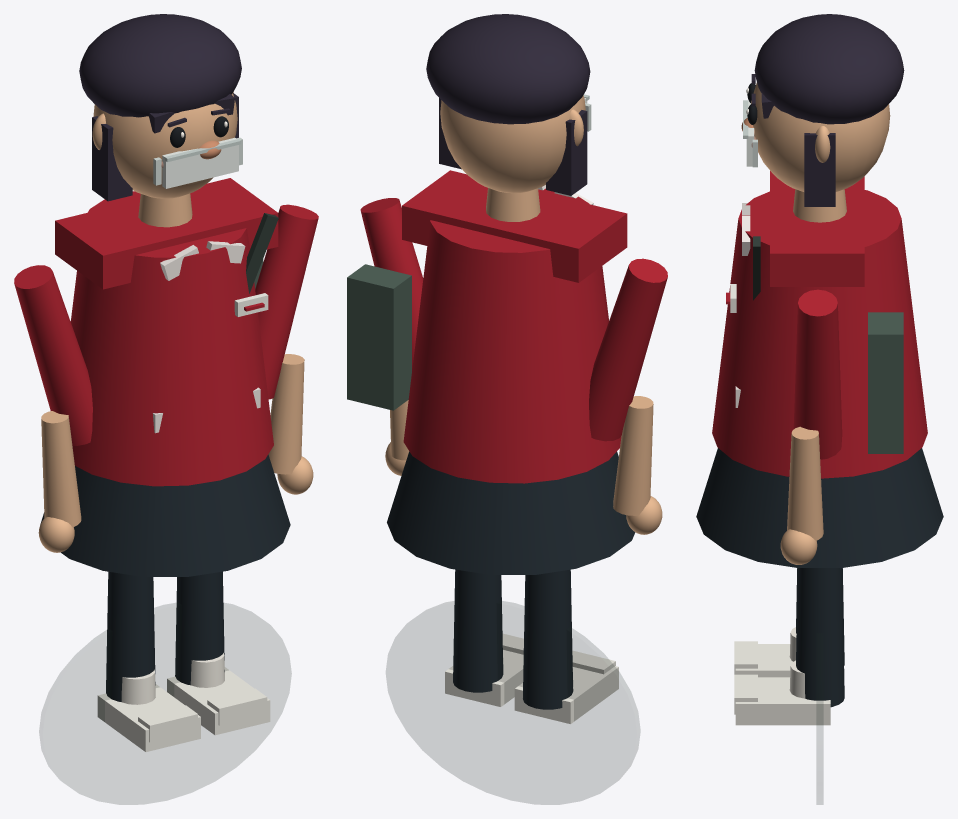
Rendered from player_female_red_mask.glb.
3 renders of one model, left to right at view 1: azimuth 30°, elevation 25°; view 2: azimuth 150°, elevation 25°; view 3: azimuth 270°, elevation 25°, orthographic. The views are drawn at different scales.
Visible parts, largest first — view 1: torso, contact_shadow, skirt, hair_cap, shoulder_line, upper_arm_-0.235, upper_arm_0.235, head, leg_-0.075, leg_0.075, forearm_-0.235, forearm_0.235 (+13 smaller); view 2: torso, contact_shadow, skirt, hair_cap, shoulder_line, shoulder_bag, upper_arm_-0.235, head, leg_-0.075, leg_0.075, forearm_-0.235, upper_arm_0.235 (+7 smaller); view 3: torso, skirt, hair_cap, shoulder_line, upper_arm_0.235, head, leg_0.075, shoulder_bag, forearm_0.235, shoe_0.075, side_hair_0.115, shoe_-0.075 (+7 smaller).
Part boxes in pixels (x1,y1,x2,y2): torso: [70, 191, 273, 486]; contact_shadow: [39, 603, 291, 804]; skirt: [40, 454, 290, 576]; hair_cap: [79, 14, 241, 117]; shoulder_line: [55, 178, 278, 289]; upper_arm_-0.235: [14, 265, 92, 445]; upper_arm_0.235: [255, 204, 318, 399]; head: [93, 93, 237, 198]; leg_-0.075: [106, 571, 155, 701]; leg_0.075: [175, 571, 224, 685]; forearm_-0.235: [41, 411, 81, 527]; forearm_0.235: [268, 354, 304, 474]; torso: [403, 188, 621, 483]; contact_shadow: [386, 601, 639, 804]; skirt: [387, 451, 635, 574]; hair_cap: [426, 14, 590, 124]; shoulder_line: [402, 170, 627, 282]; shoulder_bag: [347, 264, 411, 410]; upper_arm_-0.235: [589, 258, 667, 441]; head: [440, 95, 585, 193]; leg_-0.075: [523, 569, 573, 709]; leg_0.075: [453, 569, 503, 692]; forearm_-0.235: [613, 396, 653, 515]; upper_arm_0.235: [360, 198, 423, 370]; torso: [712, 190, 927, 478]; skirt: [696, 448, 943, 567]; hair_cap: [754, 14, 904, 124]; shoulder_line: [770, 171, 864, 286]; upper_arm_0.235: [793, 289, 842, 459]; head: [751, 82, 890, 191]; leg_0.075: [796, 568, 844, 707]; shoulder_bag: [868, 312, 903, 453]; forearm_0.235: [787, 426, 823, 540]; shoe_0.075: [735, 677, 830, 725]; side_hair_0.115: [804, 133, 835, 206]; shoe_-0.075: [735, 644, 792, 677].
Bounding box in the file's own units: 0.636 × 1.56 × 0.4606.
